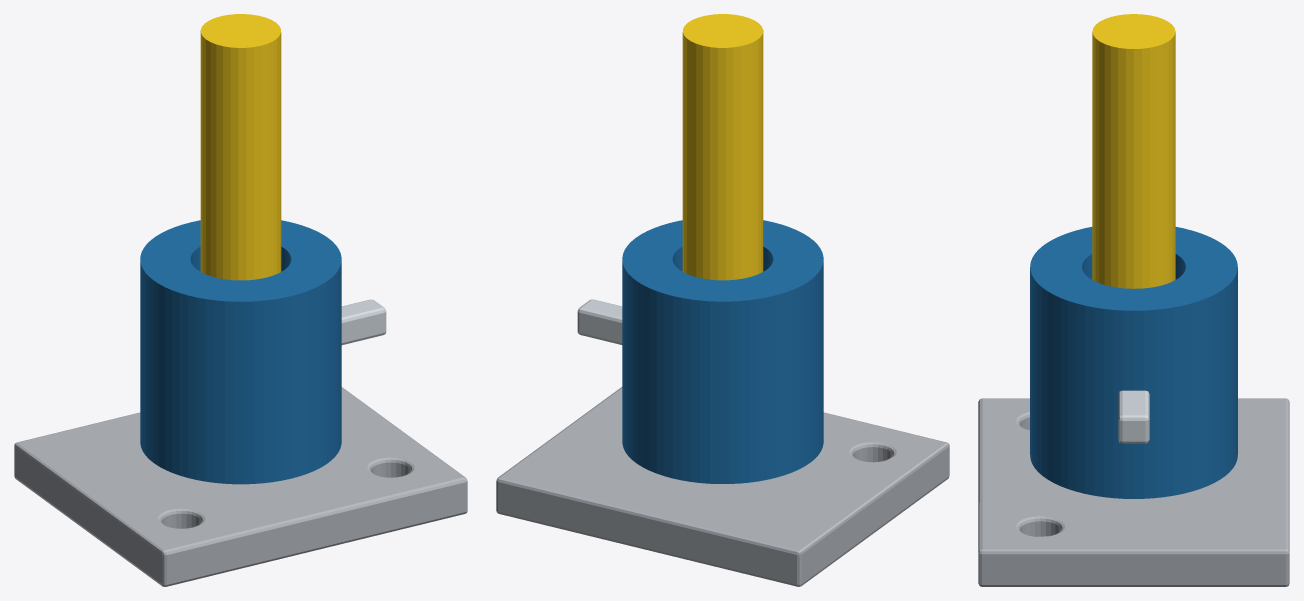
The model's file is pen-holder.glb.
3 renders of one model, left to right at view 1: azimuth 30°, elevation 25°; view 2: azimuth 150°, elevation 25°; view 3: azimuth 270°, elevation 25°, orthographic. The views are drawn at different scales.
Visible parts, largest first — view 1: Static body • blue, Static body • aluminium, Pen barrel • yellow, Static body • silver; view 2: Static body • blue, Static body • aluminium, Pen barrel • yellow, Static body • silver; view 3: Static body • blue, Static body • aluminium, Pen barrel • yellow, Static body • silver.
Part boxes in pixels (x1,y1,x2,y2): Static body • blue: [140, 220, 341, 484]; Static body • aluminium: [14, 387, 467, 586]; Pen barrel • yellow: [200, 14, 281, 280]; Static body • silver: [341, 299, 386, 344]; Static body • blue: [622, 220, 823, 483]; Static body • aluminium: [496, 387, 949, 586]; Pen barrel • yellow: [682, 14, 763, 280]; Static body • silver: [577, 299, 622, 344]; Static body • blue: [1030, 227, 1237, 498]; Static body • aluminium: [978, 398, 1289, 586]; Pen barrel • yellow: [1092, 14, 1175, 288]; Static body • silver: [1118, 390, 1149, 443].
Bounding box in the file's own units: 35 × 52 × 30.
